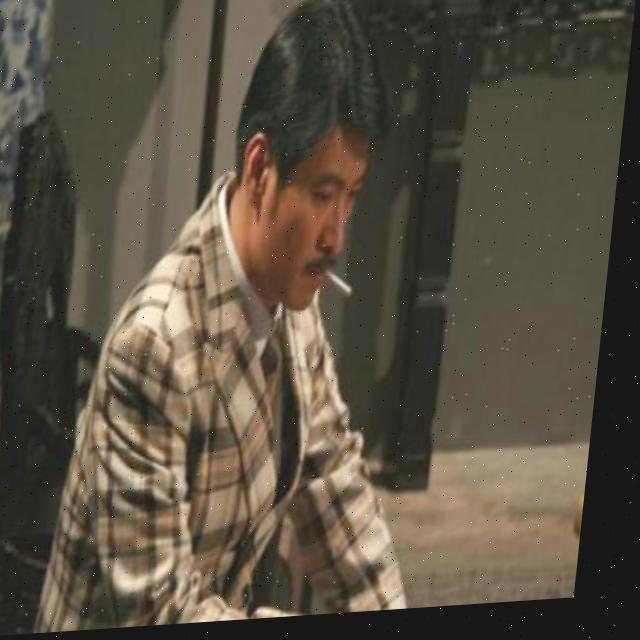cigarette: (330, 270, 364, 301)
